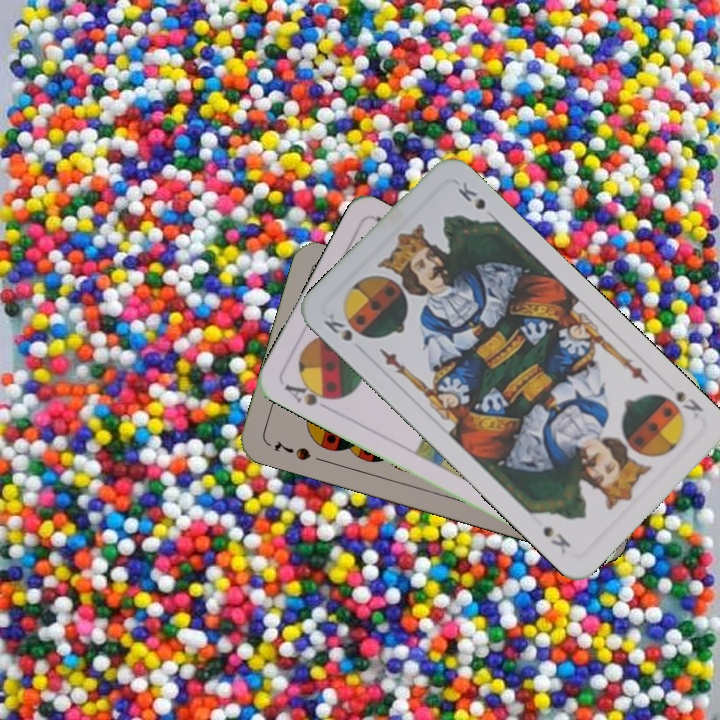S7: (270, 436, 313, 463)
SA: (280, 377, 338, 409)
SK: (319, 309, 369, 344), (672, 386, 706, 421)
